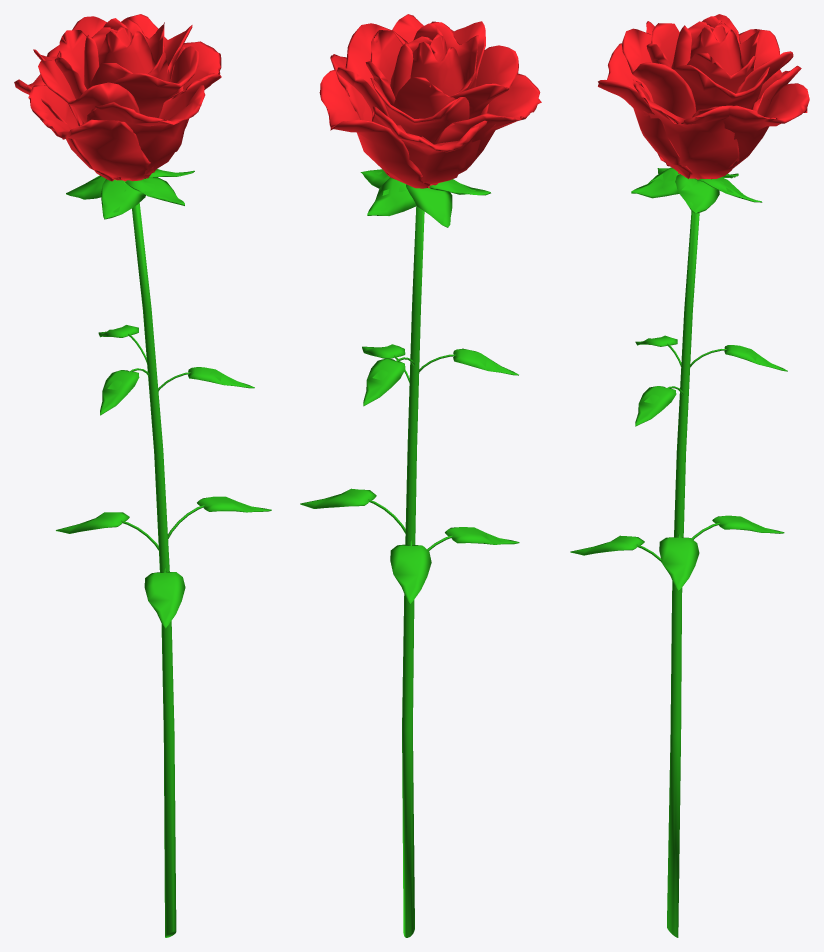
The model's file is rose.obj.
3 renders of one model, left to right at view 1: azimuth 30°, elevation 25°; view 2: azimuth 150°, elevation 25°; view 3: azimuth 270°, elevation 25°, orthographic. The views are drawn at different scales.
Visible parts, largest first — view 1: transform2, transform1; view 2: transform2, transform1; view 3: transform2, transform1.
Part boxes in pixels (<box>): transform2: <box>14,14,221,181</box>; transform1: <box>56,169,271,937</box>; transform2: <box>319,14,541,188</box>; transform1: <box>300,169,519,937</box>; transform2: <box>598,14,809,179</box>; transform1: <box>570,167,787,937</box>.
Bounding box in the file's own units: 4.46 × 17.2 × 4.16.
